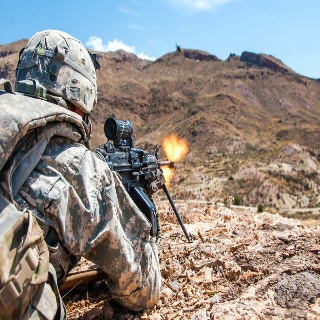rifle: (93, 116, 193, 244)
